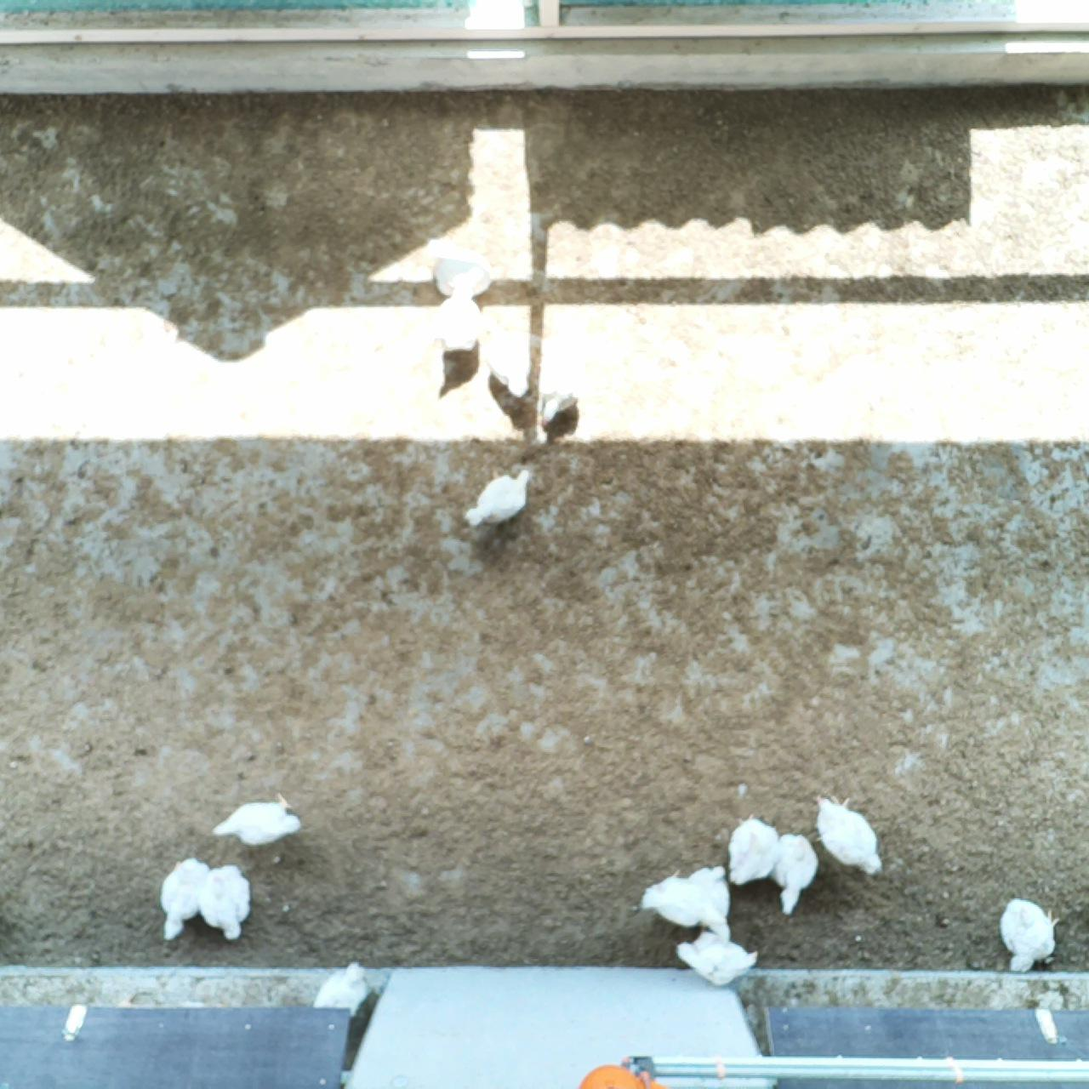chicken: (809, 786, 889, 882), (993, 893, 1069, 976), (209, 788, 305, 849), (673, 926, 762, 991), (420, 279, 485, 363), (459, 464, 533, 534), (154, 855, 212, 944), (424, 235, 504, 299), (639, 864, 713, 932), (769, 829, 821, 921), (480, 316, 535, 401), (536, 345, 588, 433), (724, 808, 780, 889), (200, 862, 253, 944), (687, 860, 736, 948)
